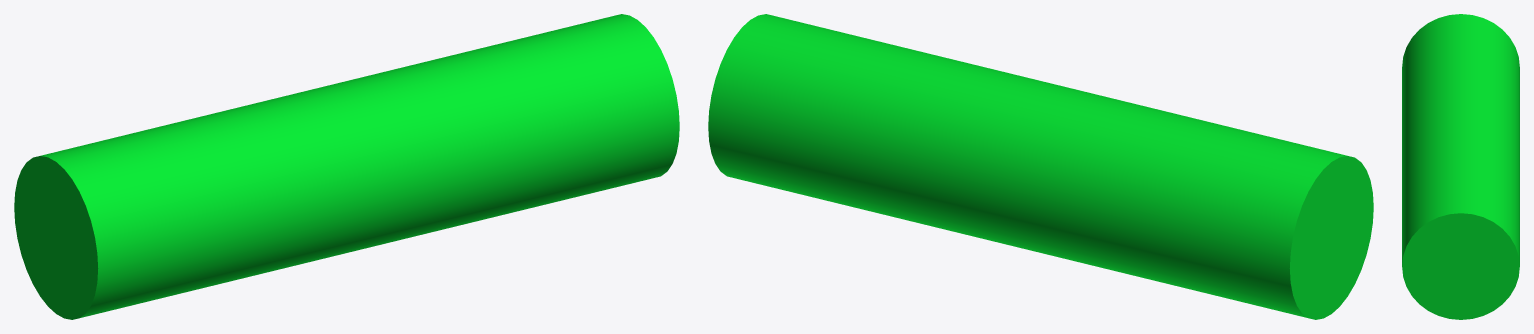
File: Projectile.fbx
The picture shows the model from 3 angles, left to right: view 1: azimuth 30°, elevation 25°; view 2: azimuth 150°, elevation 25°; view 3: azimuth 270°, elevation 25°; orthographic projection. The views are drawn at different scales.
Visible parts, largest first — view 1: Projectile; view 2: Projectile; view 3: Projectile.
Part boxes in pixels (x1,y1,x2,y2): Projectile: (14, 14, 679, 319); Projectile: (708, 14, 1373, 319); Projectile: (1402, 14, 1519, 319).
Bounding box in the file's own units: 200 × 50 × 50.
